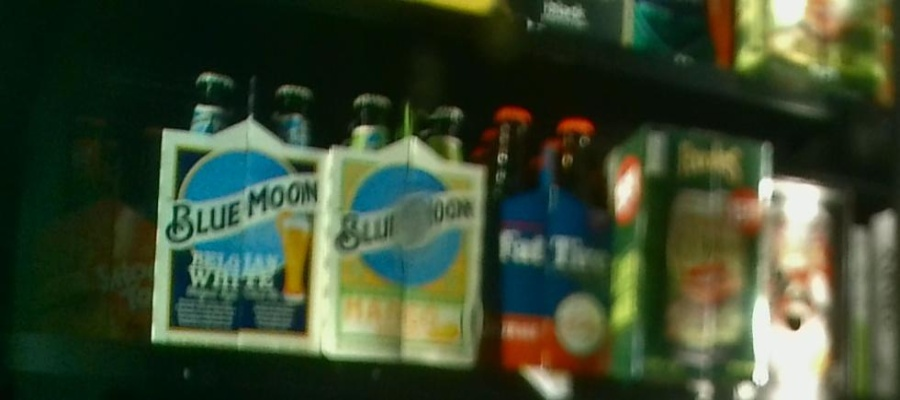bottle: (152, 72, 325, 345), (323, 96, 486, 365), (613, 125, 771, 385), (488, 104, 613, 372)
